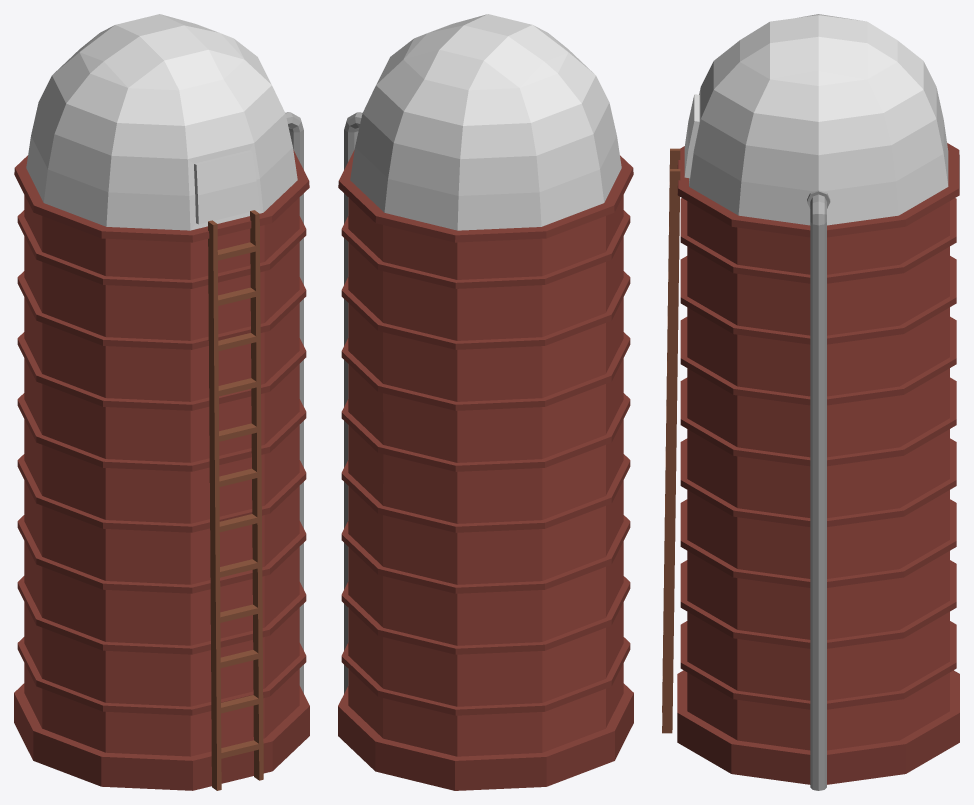
File: silo_lev1.glb
The picture shows the model from 3 angles, left to right: view 1: azimuth 30°, elevation 25°; view 2: azimuth 150°, elevation 25°; view 3: azimuth 270°, elevation 25°; orthographic projection.
Parts seen in each view (by area): view 1: silo_lev1; view 2: silo_lev1; view 3: silo_lev1.
Boxes of the visible parts, <box> form: silo_lev1: <box>14,14,309,790</box>; silo_lev1: <box>338,14,633,790</box>; silo_lev1: <box>662,14,959,790</box>.
Bounding box in the file's own units: 3.67 × 9.07 × 3.51.
